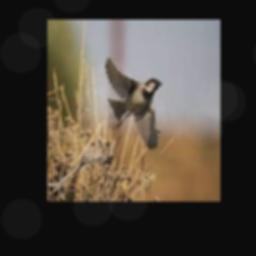Sparrow: (104, 56, 162, 149)
